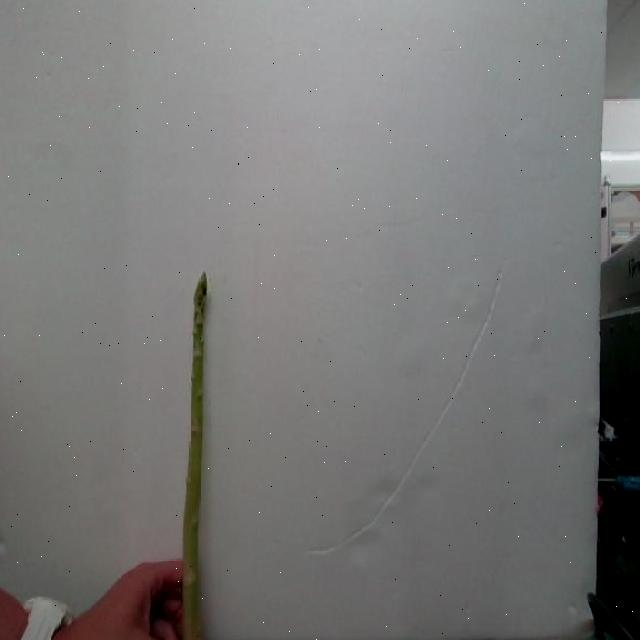aspargus: (182, 274, 212, 640)
